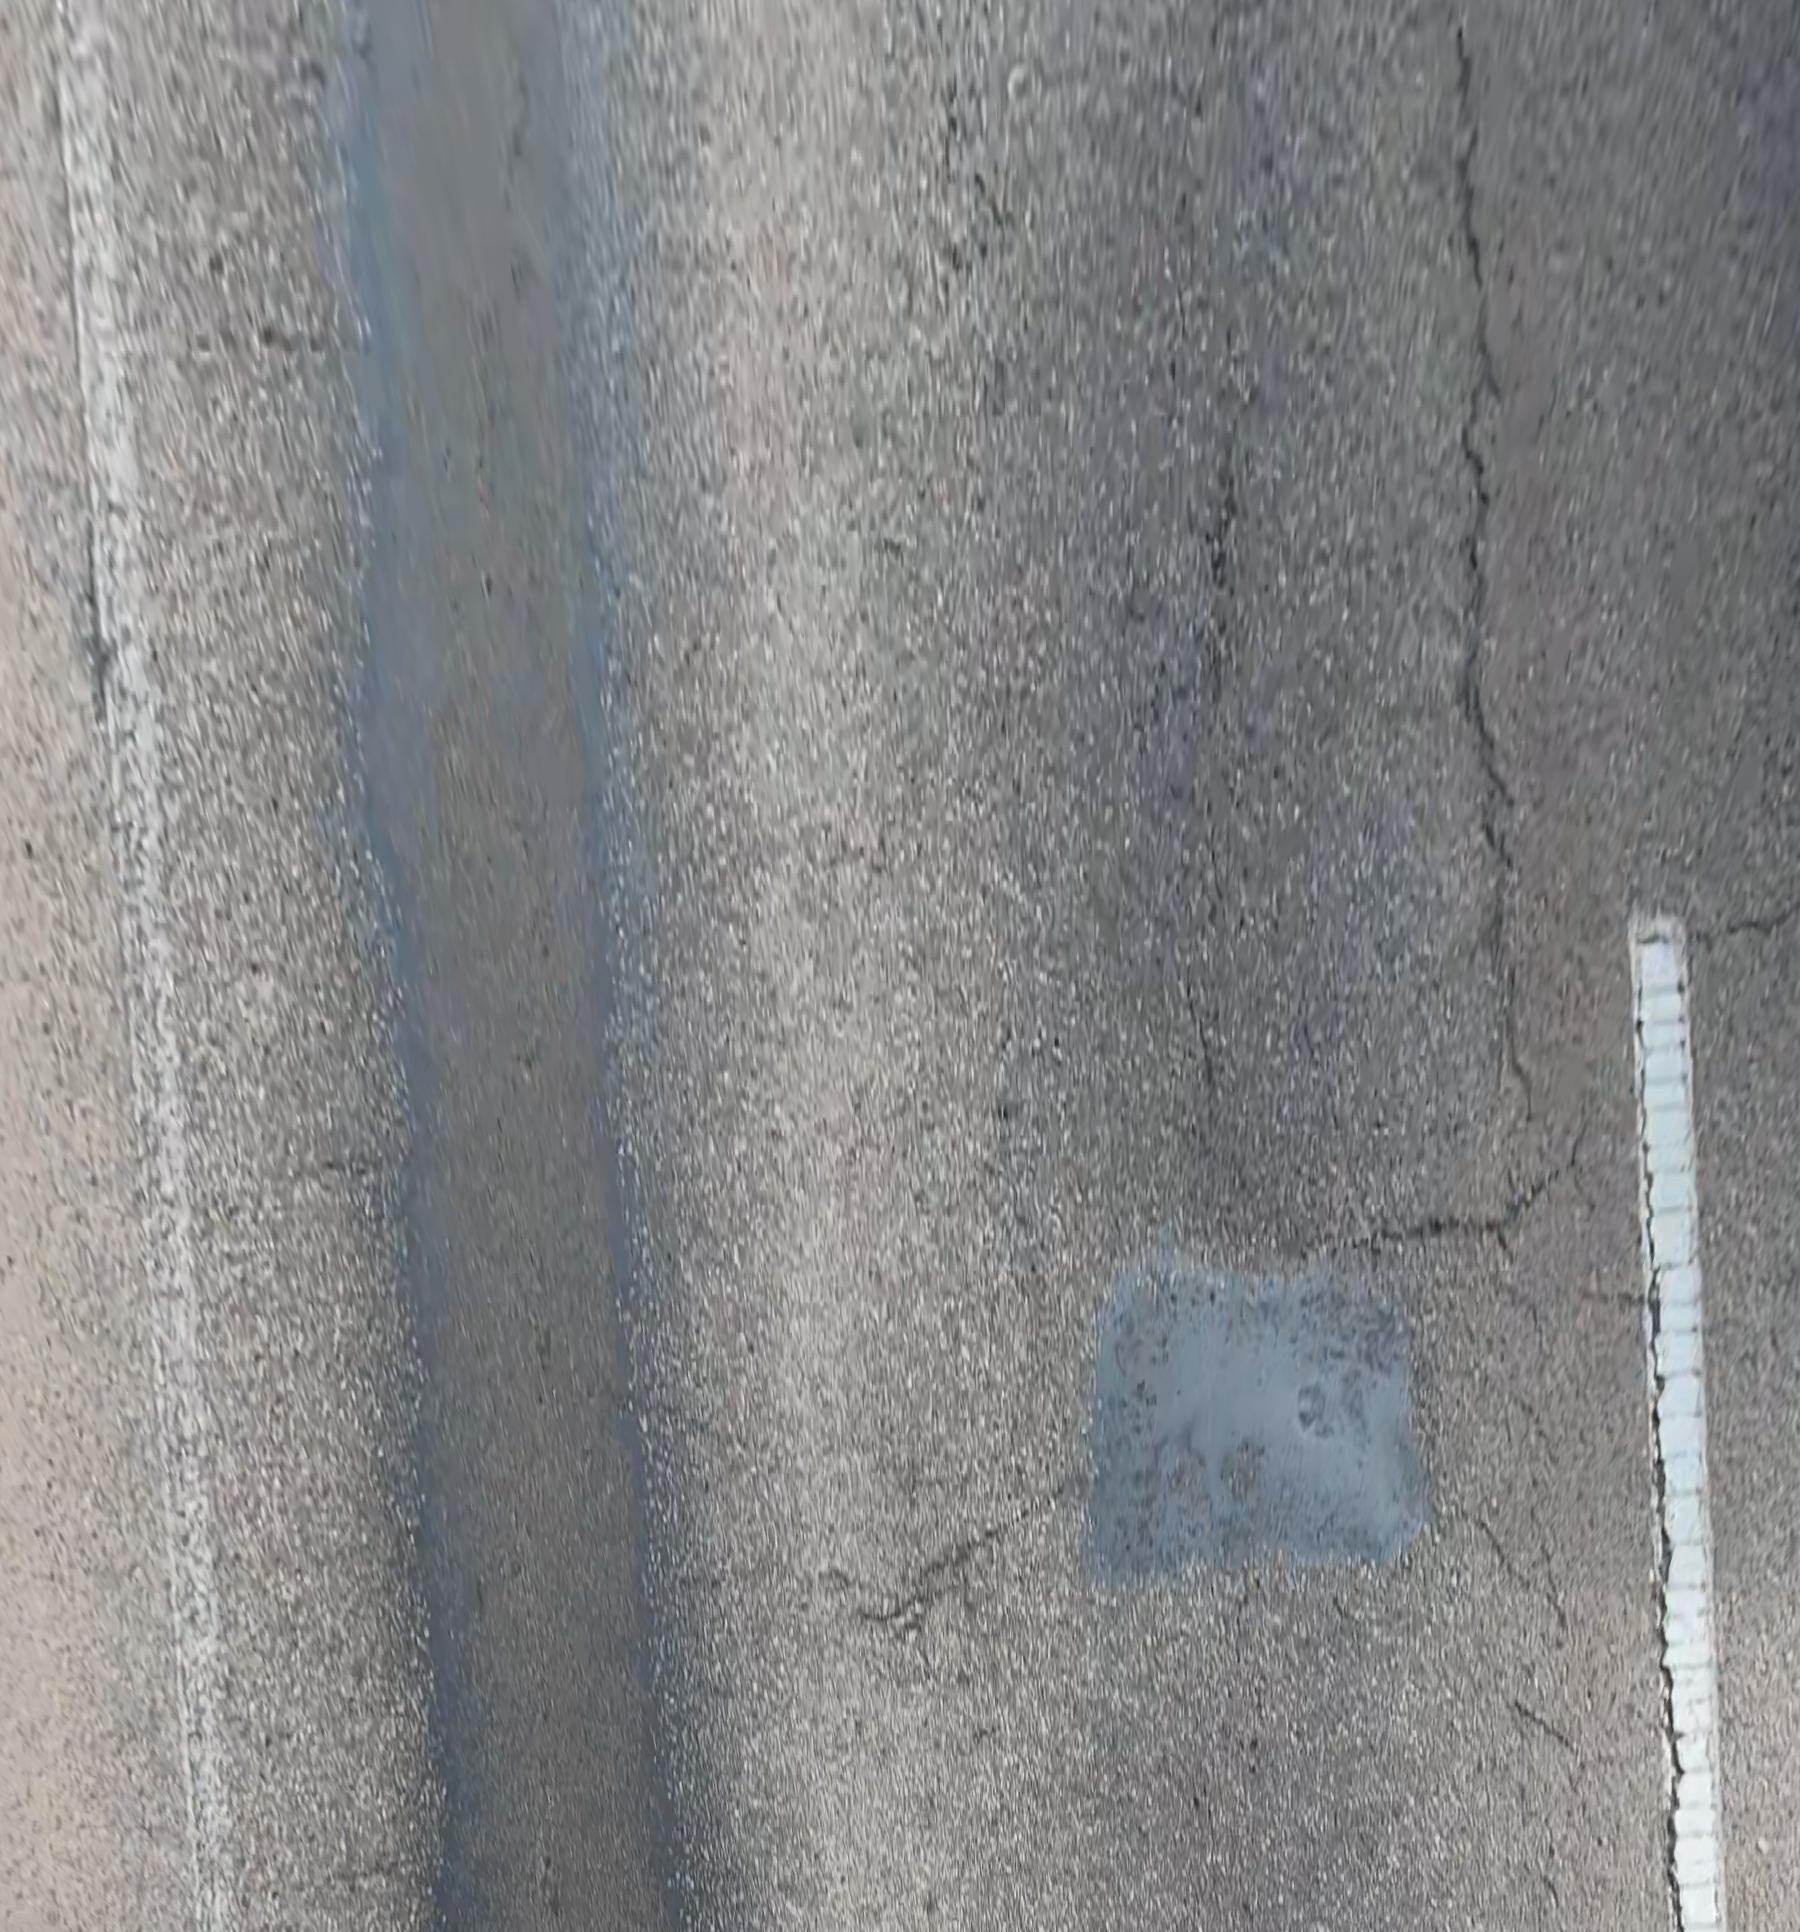pothole_patch_good: (335, 0, 668, 1932), (1088, 1271, 1430, 1587)
